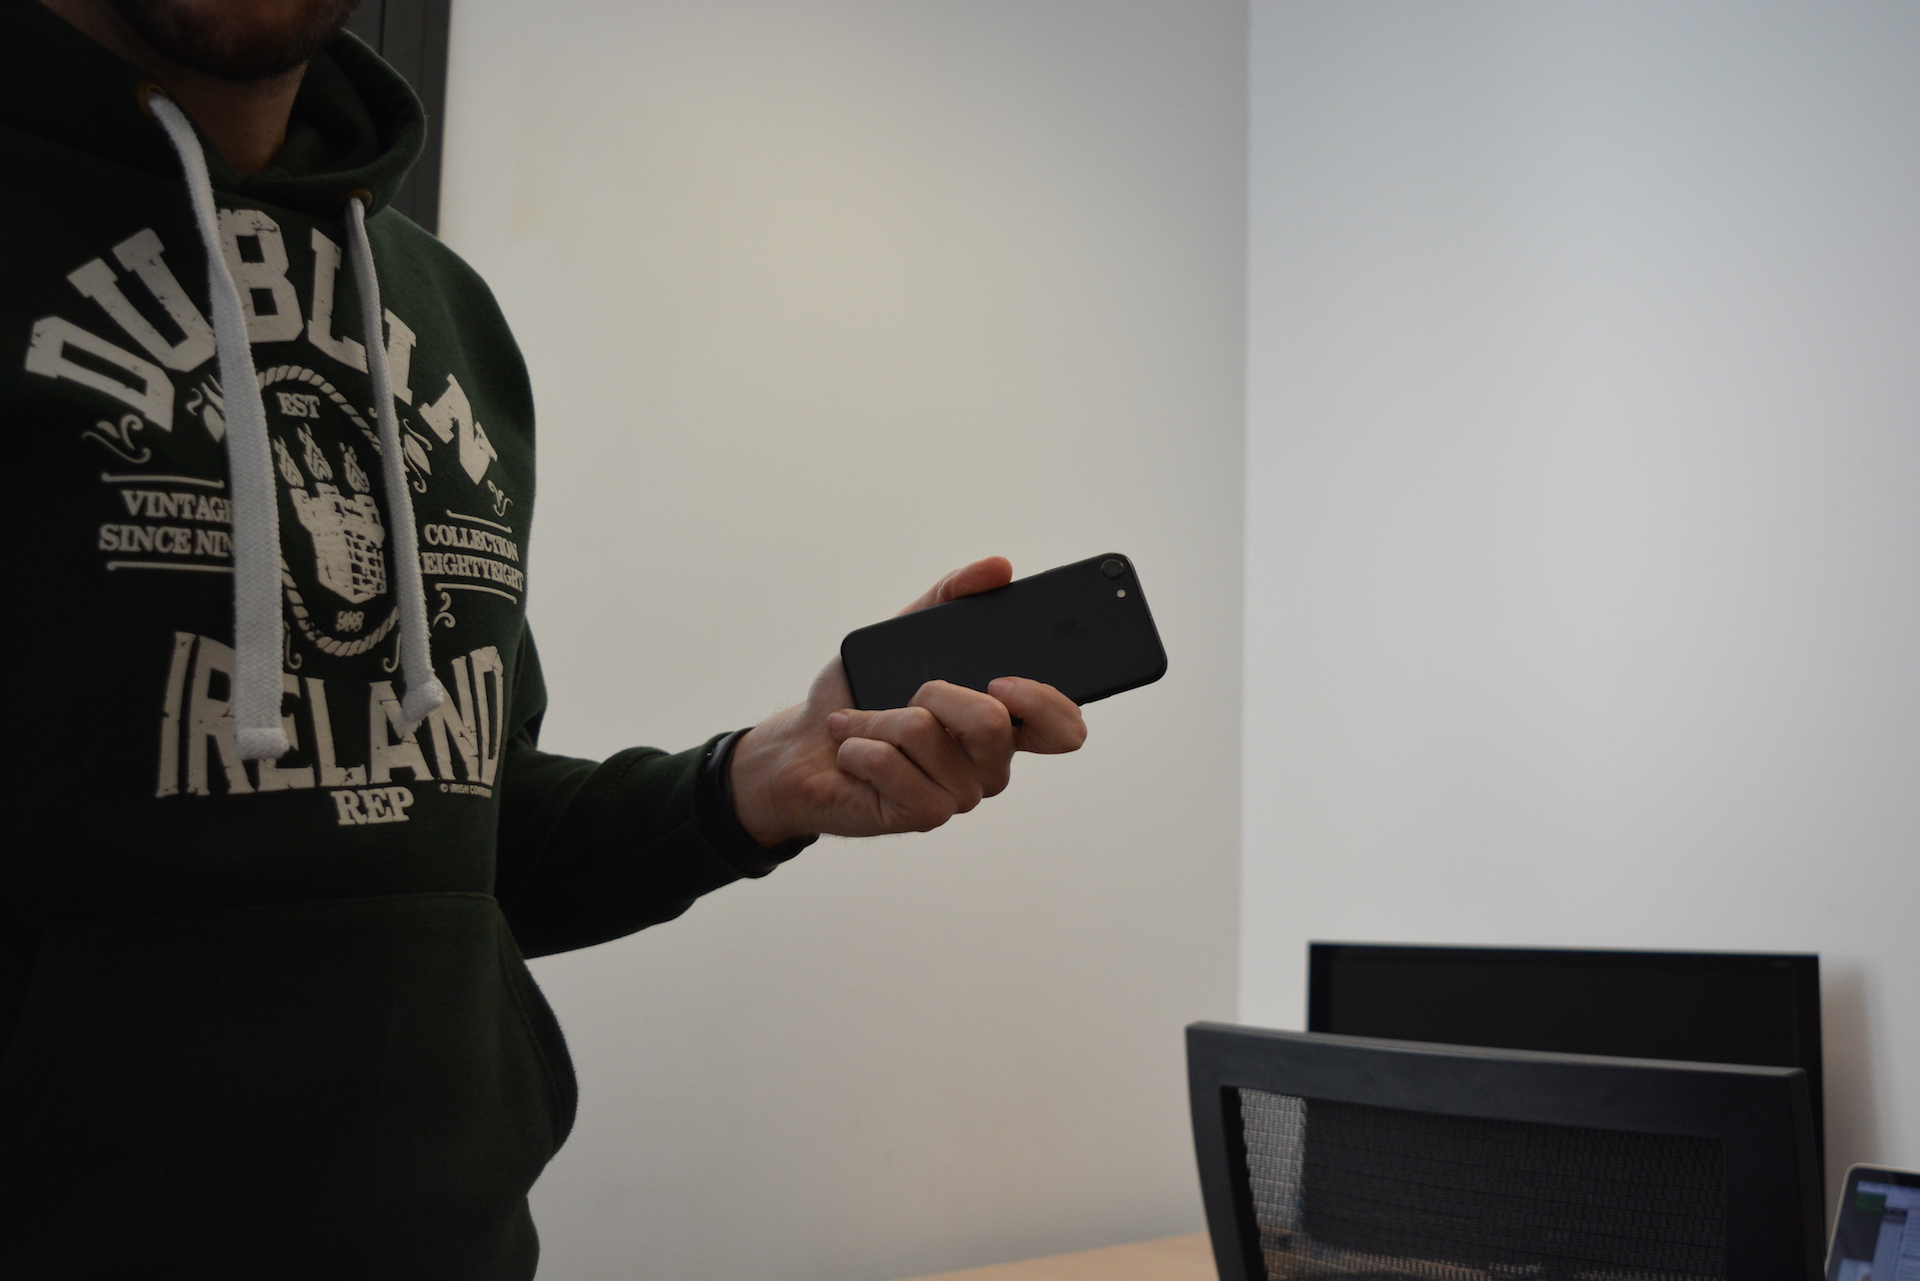smartphone: (839, 550, 1169, 731)
